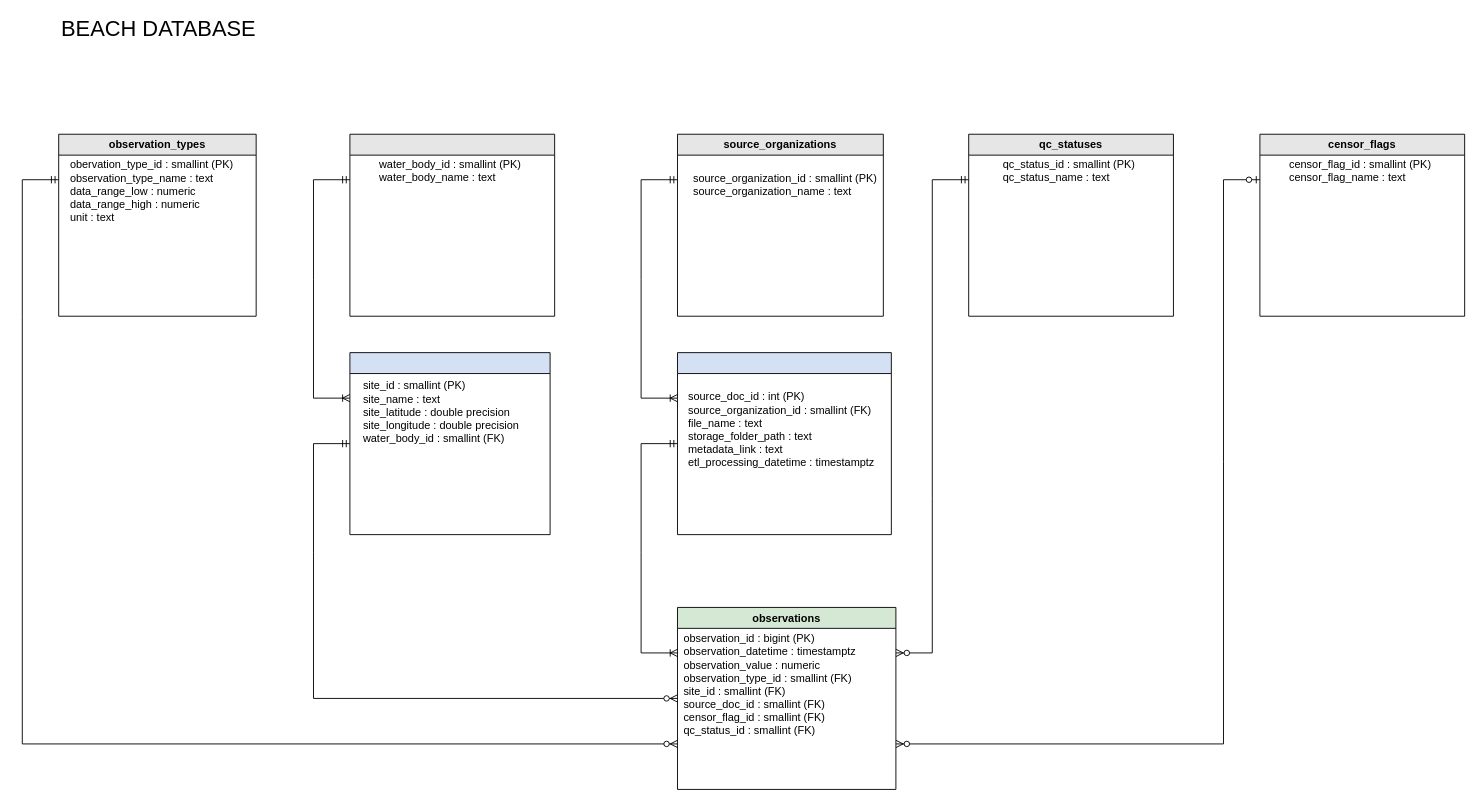
The diagram is 1481 pixels wide and 805 high, and some of its shapes have lost their labels. The box of each missing label's shape, as (x1, y1, x2, y2) in pixels:
sites: (349, 352, 550, 535)
source_docs: (677, 352, 891, 535)
water_bodies: (349, 133, 555, 316)
